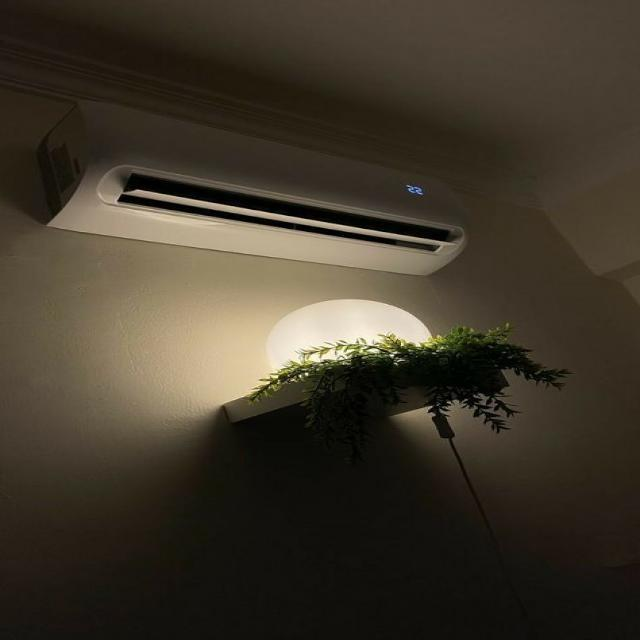AC: (34, 97, 471, 276)
